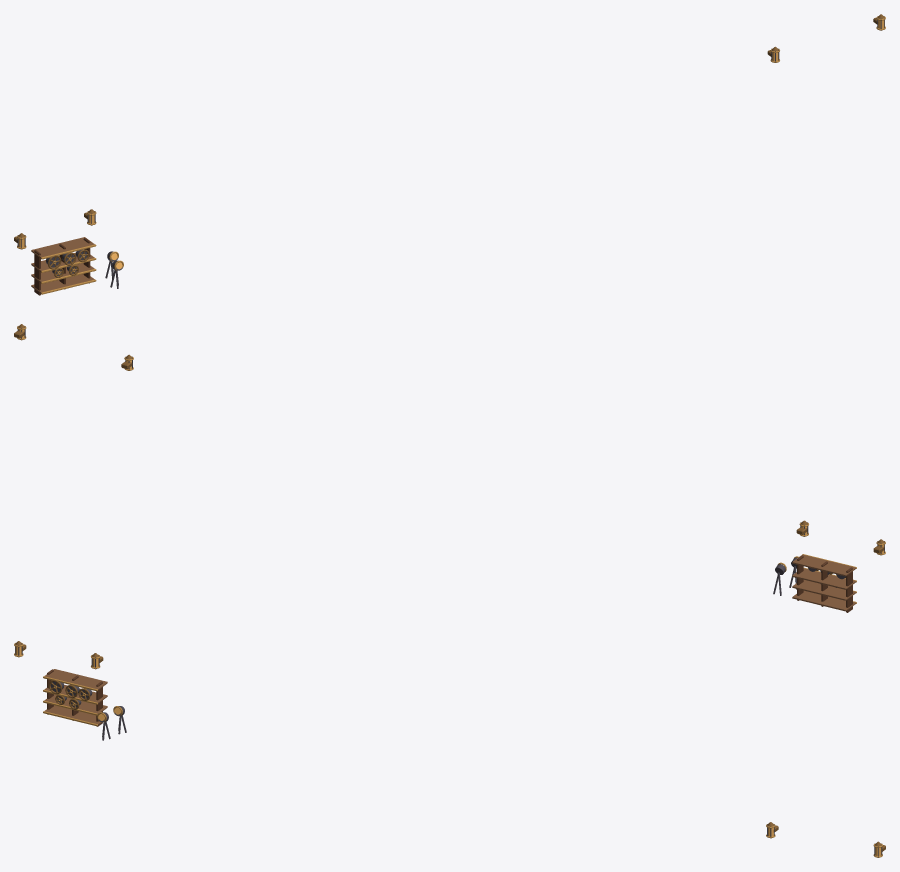
Rendered from SM_Vault_Props.fbx.
3 renders of one model, top to bottom at view 1: azimuth 30°, elevation 25°; view 2: azimuth 150°, elevation 25°; view 3: azimuth 330°, elevation 25°, orthographic.
Visible parts, largest first — view 1: SM_Vault_Props; view 2: SM_Vault_Props; view 3: SM_Vault_Props.
Part boxes in pixels (<box>): SM_Vault_Props: <box>14,14,885,295</box>; SM_Vault_Props: <box>14,324,885,612</box>; SM_Vault_Props: <box>14,641,885,857</box>.
Bounding box in the file's own units: 3239 × 134 × 287.
